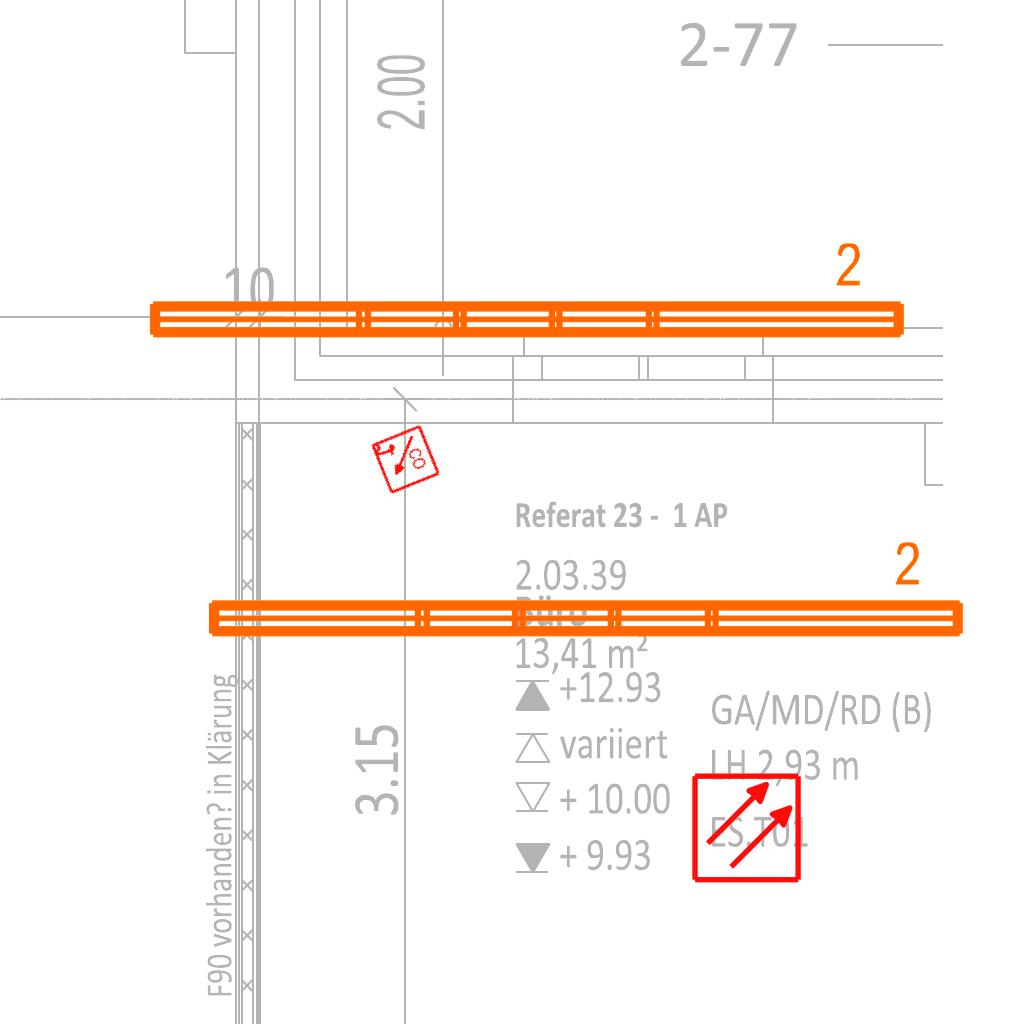Ambulanz_Pendelleuchte_LED: (198, 537, 972, 649), (139, 238, 913, 350)
RMO_Rauchmelder_optischer: (690, 771, 803, 884)
ROA_Rauchmelder_optisch_mit_Signalgeber_(Sockelsirene): (368, 423, 442, 497)
